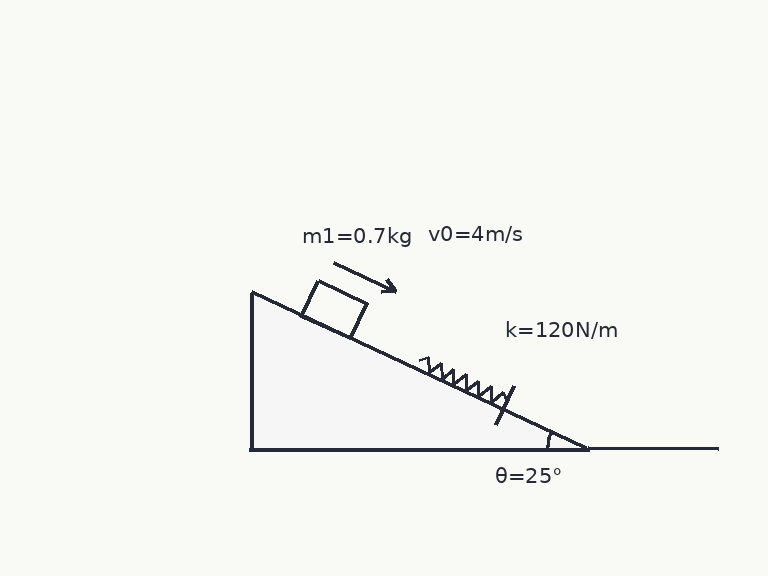block: (299, 278, 368, 340)
ramp: (248, 290, 589, 451)
spring: (417, 355, 509, 404)
